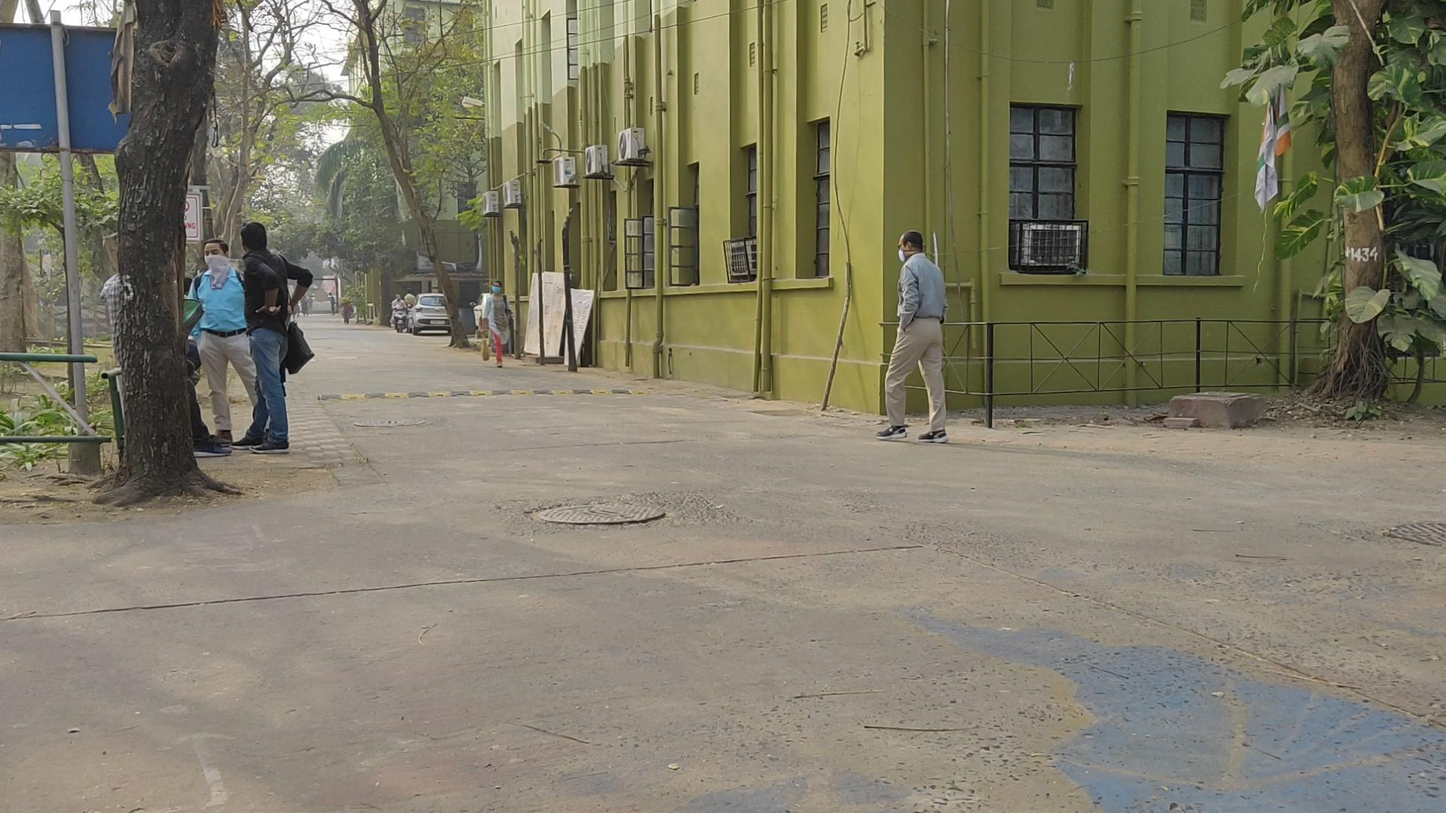bike: (389, 294, 410, 333)
car: (407, 293, 452, 336)
